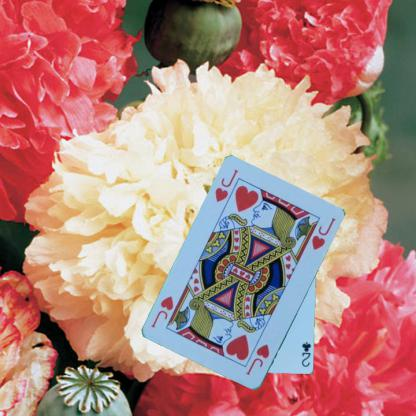2c: (299, 339, 312, 368)
Jh: (213, 166, 239, 204), (243, 342, 271, 377)
